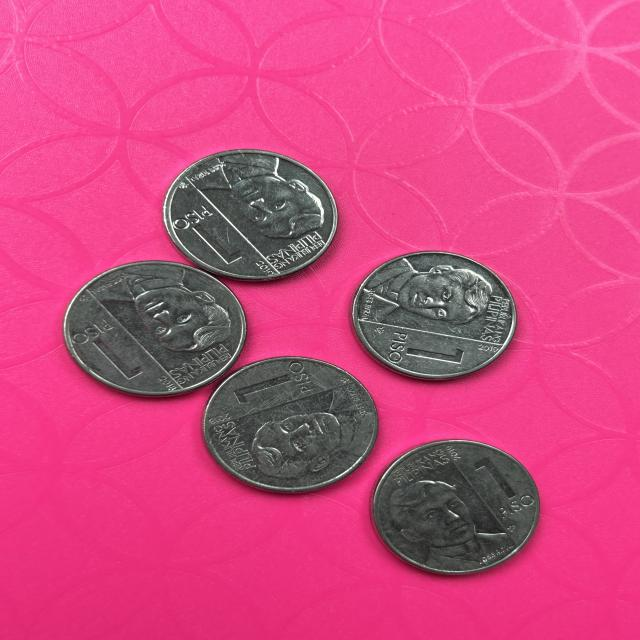1_New_Front: (466, 448, 535, 524), (75, 315, 148, 385), (376, 319, 466, 375), (170, 204, 243, 267), (233, 361, 315, 412)
